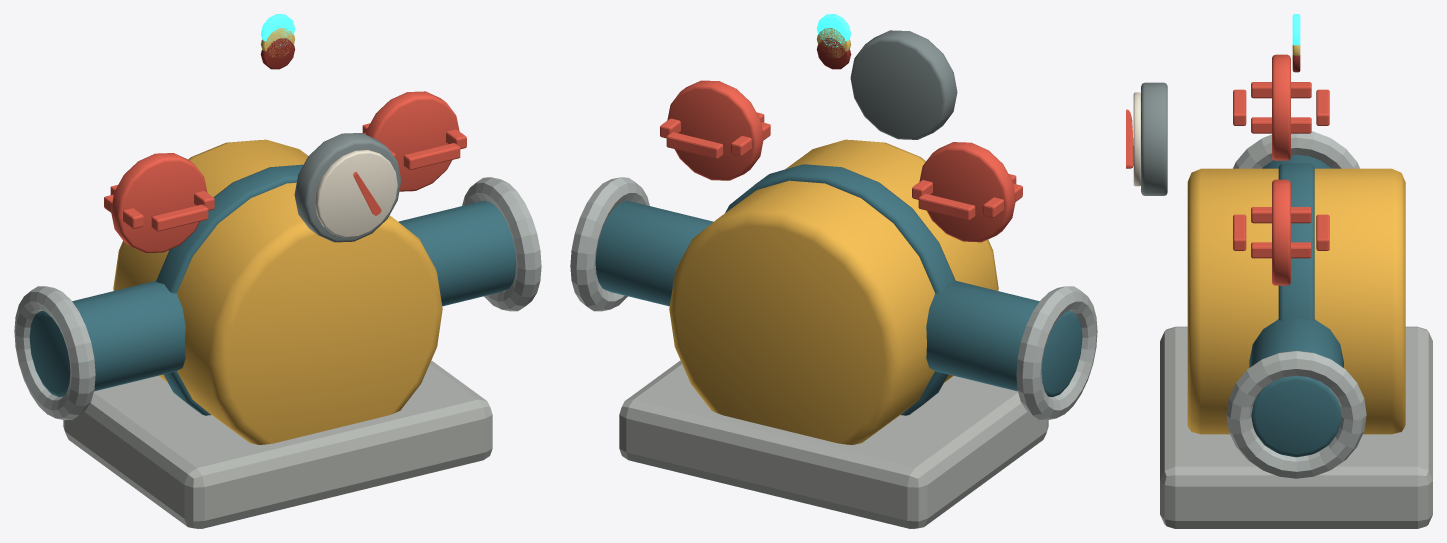
The model's file is c04_repair_pump_formal.glb.
The picture shows the model from 3 angles, left to right: view 1: azimuth 30°, elevation 25°; view 2: azimuth 150°, elevation 25°; view 3: azimuth 270°, elevation 25°; orthographic projection.
Visible parts, largest first — view 1: Pump_MainHousing, Pump_Base, Pump_Pipe_-1, Pump_Pipe_1, Pump_ValveWheel_-1, Pump_Flange_-1, PressureGauge_Face, Pump_ValveWheel_1, Pump_BlueBand, Pump_Flange_1, PressureGauge_Back, Pump_ValveSpoke_-1_3 (+3 smaller); view 2: Pump_MainHousing, Pump_Base, Pump_Pipe_-1, PressureGauge_Back, Pump_Pipe_1, Pump_ValveWheel_-1, Pump_ValveWheel_1, Pump_Flange_-1, Pump_BlueBand, Pump_Flange_1, Pump_ValveSpoke_-1_1, Pump_ValveSpoke_1_1 (+2 smaller); view 3: Pump_MainHousing, Pump_Base, Pump_Pipe_1, Pump_Flange_1, Pump_BlueBand, PressureGauge_Back, Pump_Flange_-1, Pump_ValveWheel_1, Pump_ValveWheel_-1, PressureGauge_Face, Pump_ValveSpoke_1_0, Pump_ValveSpoke_-1_0 (+8 smaller).
Boxes of the visible parts, box(x1,y1,x2,y2) form: Pump_MainHousing: box(113, 139, 442, 444); Pump_Base: box(63, 360, 492, 528); Pump_Pipe_-1: box(29, 281, 185, 396); Pump_Pipe_1: box(398, 201, 516, 306); Pump_ValveWheel_-1: box(111, 153, 207, 253); Pump_Flange_-1: box(14, 286, 95, 420); PressureGauge_Face: box(315, 150, 397, 237); Pump_ValveWheel_1: box(365, 91, 459, 191); Pump_BlueBand: box(156, 164, 303, 415); Pump_Flange_1: box(462, 177, 541, 311); PressureGauge_Back: box(294, 133, 401, 242); Pump_ValveSpoke_-1_3: box(151, 204, 208, 231); Pump_MainHousing: box(669, 139, 998, 444); Pump_Base: box(619, 360, 1048, 528); Pump_Pipe_-1: box(926, 281, 1082, 396); PressureGauge_Back: box(850, 30, 957, 139); Pump_Pipe_1: box(595, 201, 713, 306); Pump_ValveWheel_-1: box(919, 142, 1015, 242); Pump_ValveWheel_1: box(667, 80, 763, 180); Pump_Flange_-1: box(1016, 286, 1097, 420); Pump_BlueBand: box(725, 164, 955, 415); Pump_Flange_1: box(570, 177, 649, 311); Pump_ValveSpoke_-1_1: box(918, 193, 975, 220); Pump_ValveSpoke_1_1: box(666, 132, 723, 159); Pump_MainHousing: box(1187, 168, 1405, 434); Pump_Base: box(1160, 326, 1432, 528); Pump_Pipe_1: box(1249, 317, 1343, 457); Pump_Flange_1: box(1226, 350, 1366, 478); Pump_BlueBand: box(1278, 163, 1314, 320); PressureGauge_Back: box(1141, 82, 1167, 195); Pump_Flange_-1: box(1233, 131, 1359, 168); Pump_ValveWheel_1: box(1272, 179, 1290, 285); Pump_ValveWheel_-1: box(1272, 54, 1290, 160); PressureGauge_Face: box(1133, 92, 1140, 186); Pump_ValveSpoke_1_0: box(1251, 242, 1311, 258); Pump_ValveSpoke_-1_0: box(1251, 117, 1311, 133).
Bounding box in the file's own units: 2.9 × 2.58 × 1.62.
